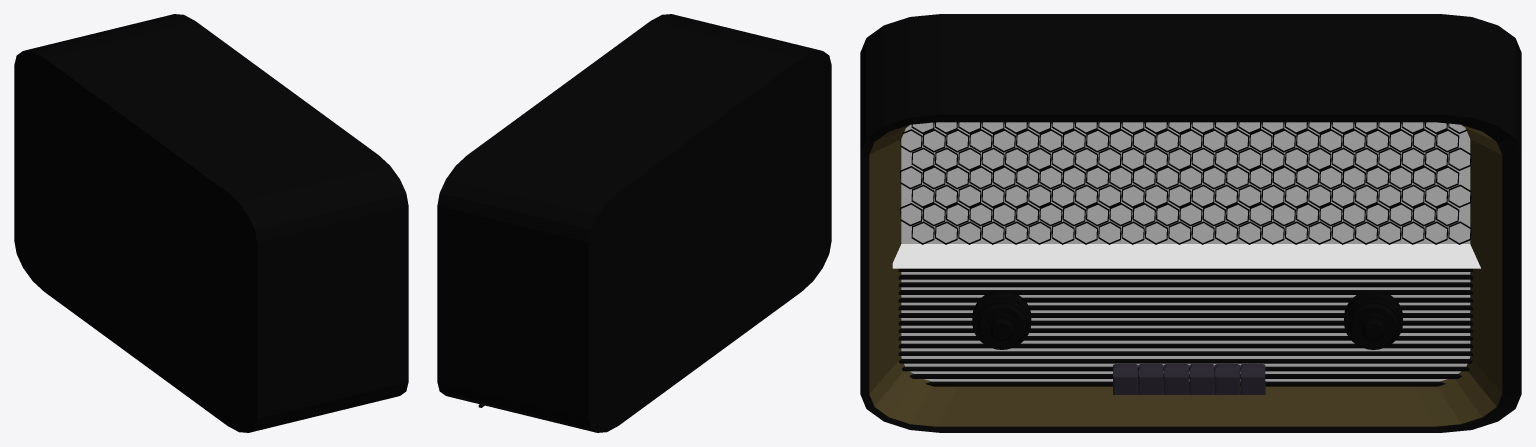
File: radio.fbx
3 renders of one model, left to right at view 1: azimuth 30°, elevation 25°; view 2: azimuth 150°, elevation 25°; view 3: azimuth 270°, elevation 25°, orthographic. The views are drawn at different scales.
Visible parts, largest first — view 1: Cube; view 2: Cube; view 3: Cube.
Part boxes in pixels (<box>): Cube: <box>14,14,408,432</box>; Cube: <box>437,14,831,432</box>; Cube: <box>860,14,1521,432</box>.
Bounding box in the file's own units: 123 × 182 × 342.
